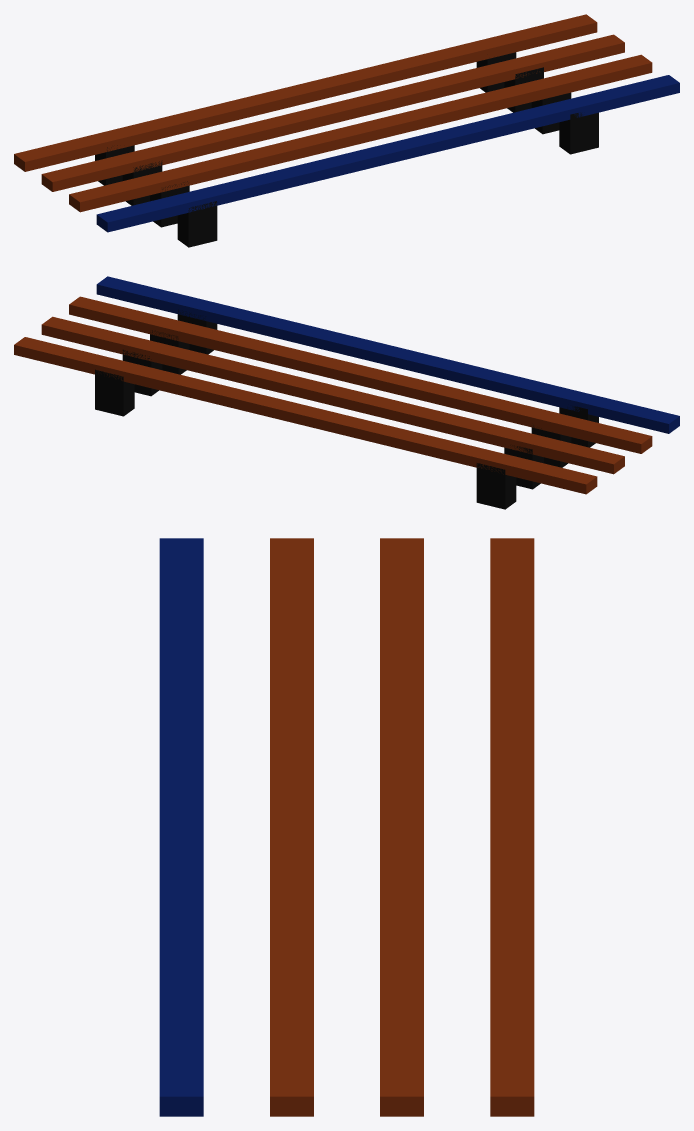
The model's file is busbar.glb.
The picture shows the model from 3 angles, top to bottom: view 1: azimuth 30°, elevation 25°; view 2: azimuth 150°, elevation 25°; view 3: azimuth 270°, elevation 25°; orthographic projection. The views are drawn at different scales.
Visible parts, largest first — view 1: busbar; view 2: busbar; view 3: busbar.
Boxes of the visible parts, x1,y1,x2,y2 form: busbar: [14, 14, 679, 247]; busbar: [14, 276, 679, 509]; busbar: [159, 538, 534, 1116].
Size of the model in its own units: 0.3 by 0.0225 by 0.085.
